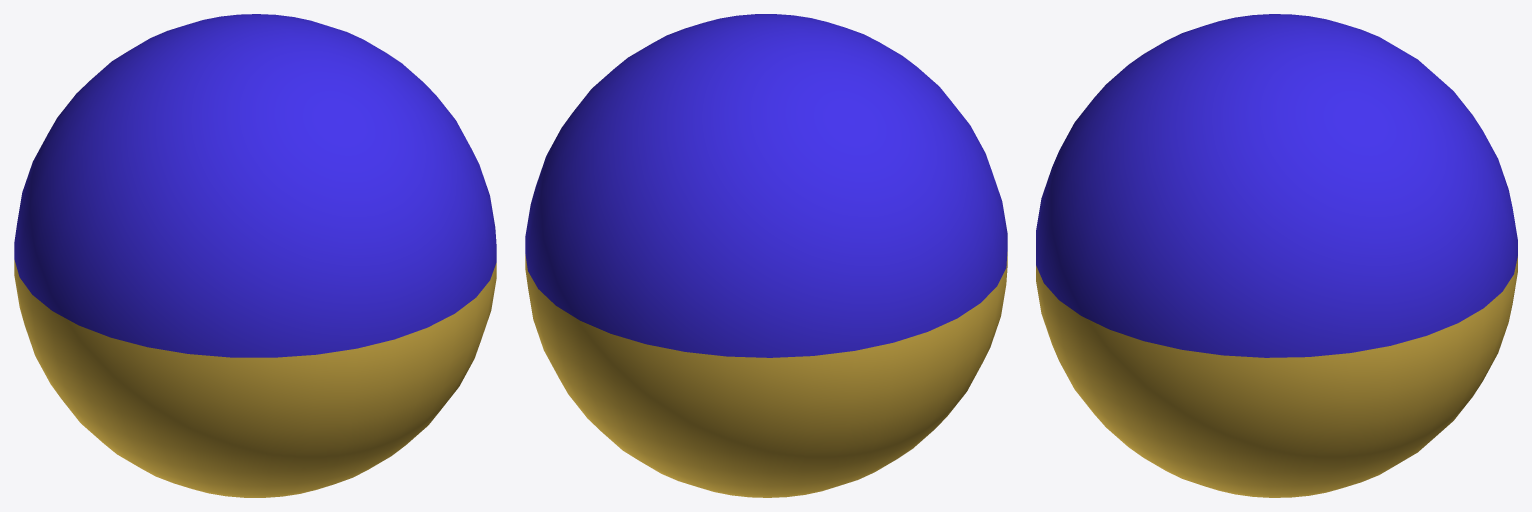
Rendered from sphere_obstacle.fbx.
3 renders of one model, left to right at view 1: azimuth 30°, elevation 25°; view 2: azimuth 150°, elevation 25°; view 3: azimuth 270°, elevation 25°, orthographic.
Visible parts, largest first — view 1: Sphere; view 2: Sphere; view 3: Sphere.
Boxes of the visible parts, x1,y1,x2,y2 form: Sphere: (14, 14, 496, 497); Sphere: (525, 14, 1007, 497); Sphere: (1036, 14, 1517, 497).
Bounding box in the file's own units: 420 × 421 × 419.
